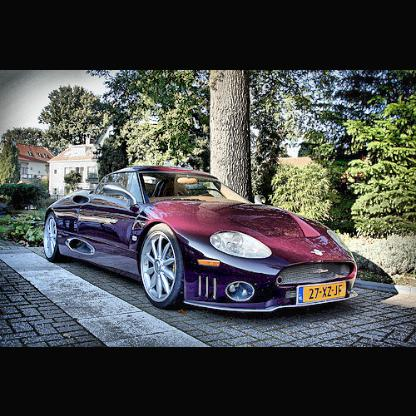Spyker C8 Convertible 2009: (44, 165, 361, 316)
